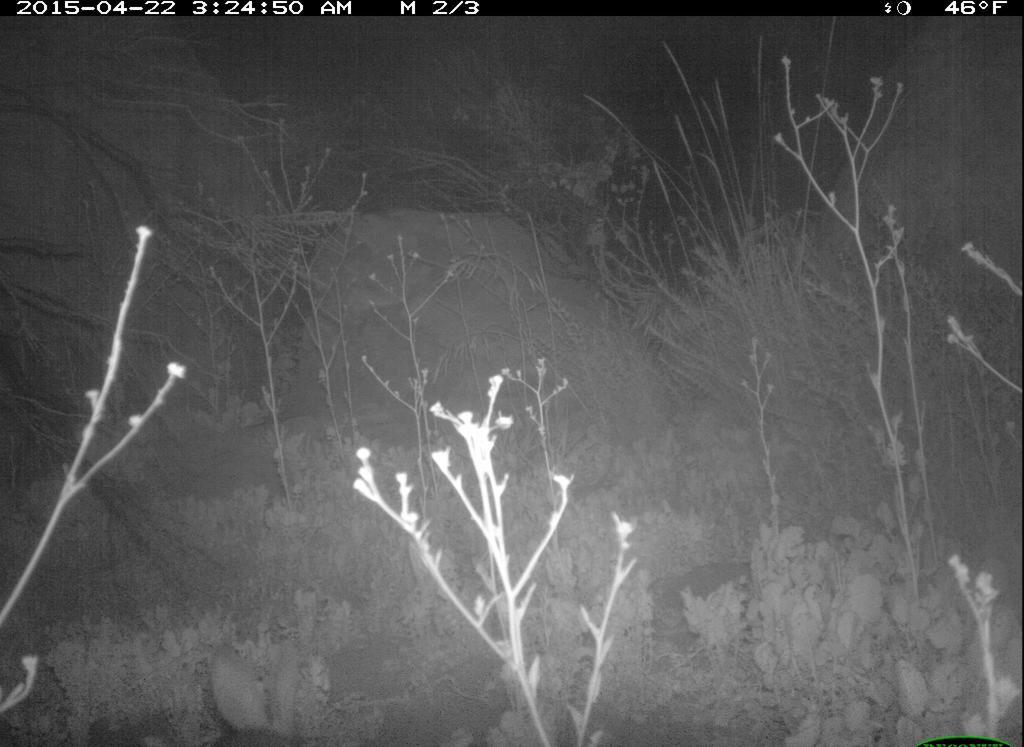rabbit: (158, 617, 326, 747)
